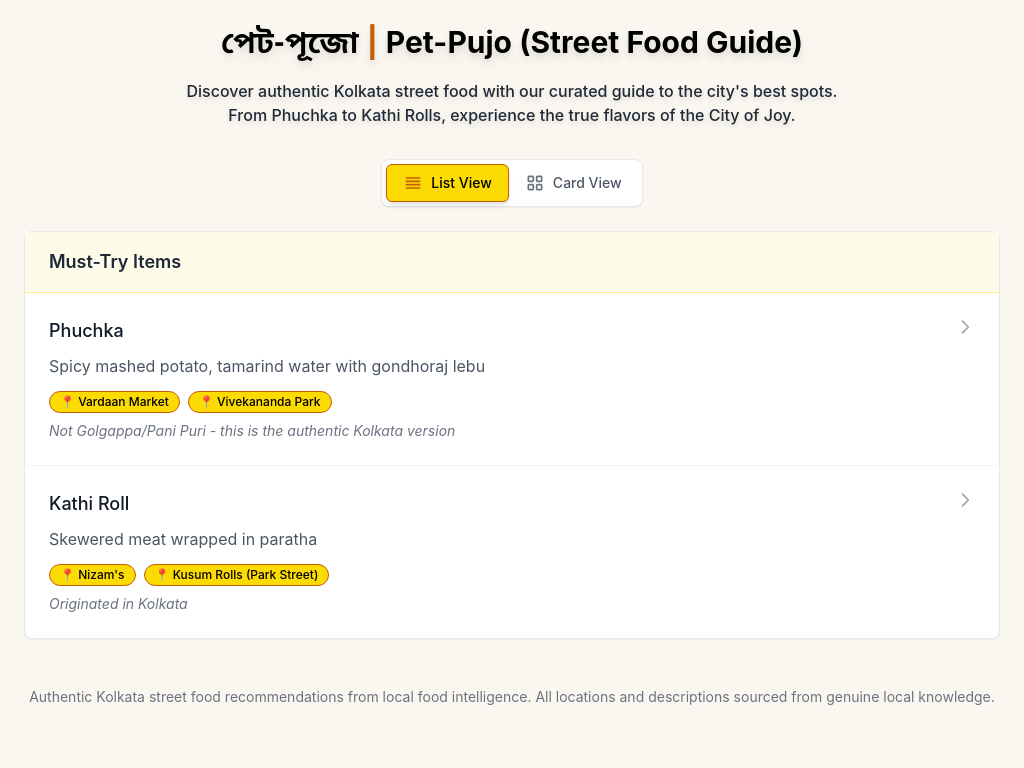
Test case: FoodMap › switches to card view when toggle is clicked
Click the button with aria-label "Switch to Card View". click: (573, 183)
box: [509,165,638,201]
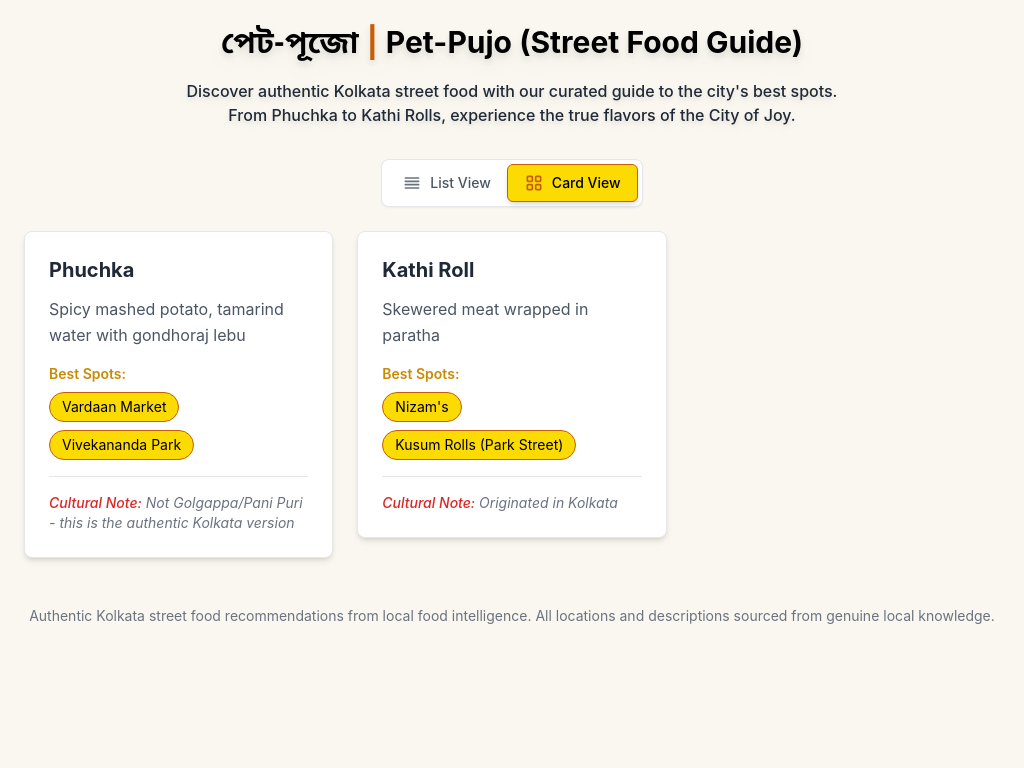
expect the heading "Must-Try Items" is gone: met
